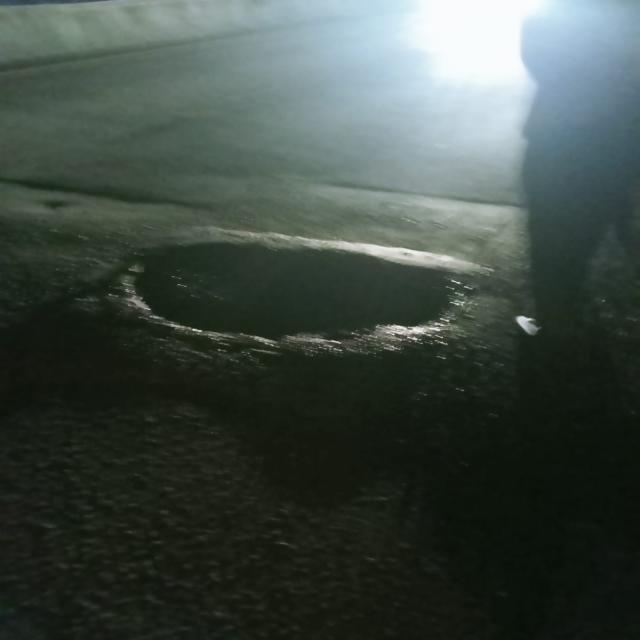Buraco: (112, 238, 459, 352)
